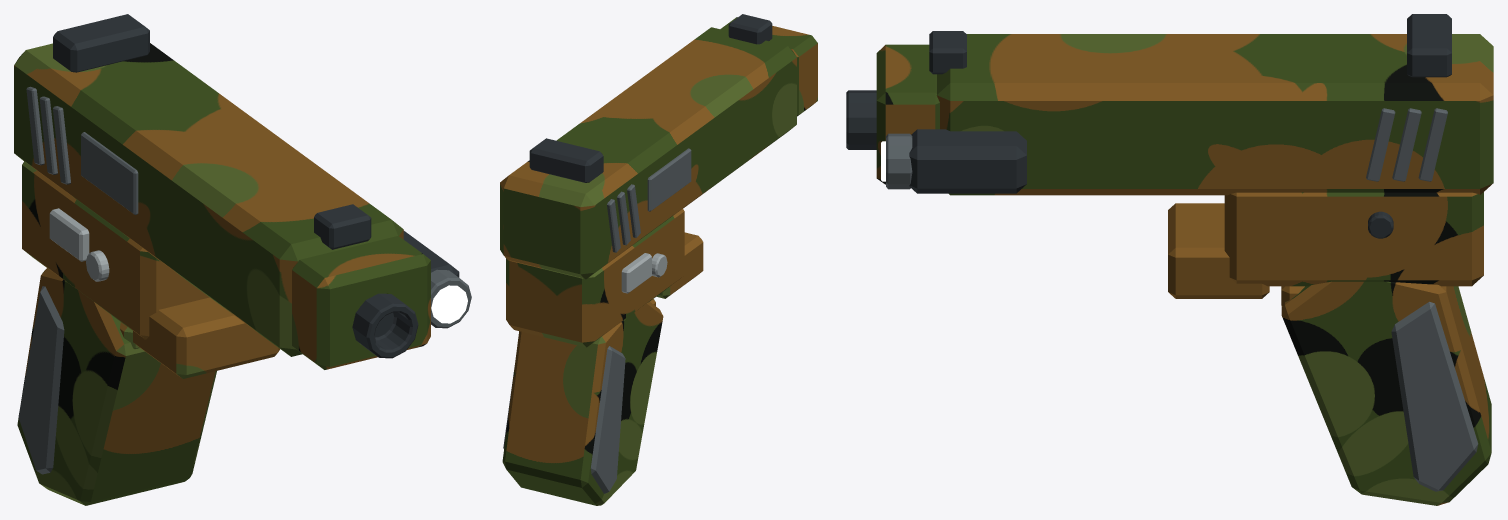
Rendered from M17_RuralCamo.glb.
The picture shows the model from 3 angles, left to right: view 1: azimuth 30°, elevation 25°; view 2: azimuth 150°, elevation 25°; view 3: azimuth 270°, elevation 25°; orthographic projection. The views are drawn at different scales.
Visible parts, largest first — view 1: FTF_Weapon_M17_RuralCamo_Mesh, FlashlightGlow; view 2: FTF_Weapon_M17_RuralCamo_Mesh; view 3: FTF_Weapon_M17_RuralCamo_Mesh.
Boxes of the visible parts, x1,y1,x2,y2 form: FTF_Weapon_M17_RuralCamo_Mesh: (14,14,471,505); FlashlightGlow: (431,285,467,323); FTF_Weapon_M17_RuralCamo_Mesh: (500,14,817,505); FTF_Weapon_M17_RuralCamo_Mesh: (846,14,1493,505).
Size of the model in its own units: 0.258 by 0.6609 by 0.86.
Materials: 5 (1 with a texture image).
